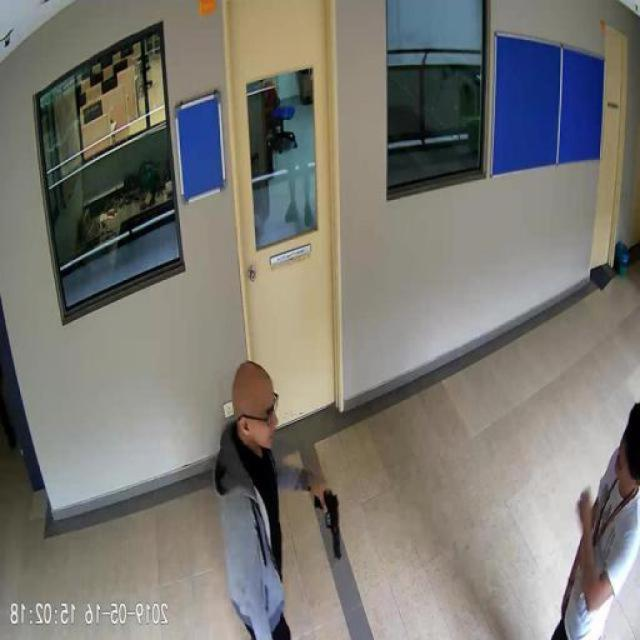pistol: (315, 488, 343, 560)
